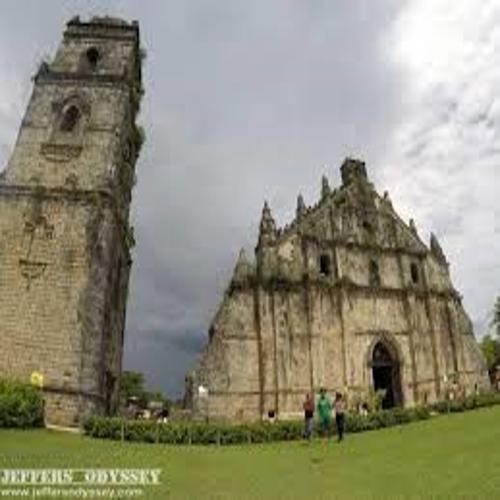Paoay Church: (5, 6, 500, 420)
